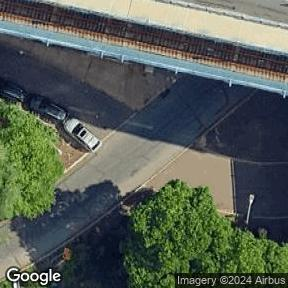vegetation: (0, 101, 62, 220), (63, 248, 103, 288)
